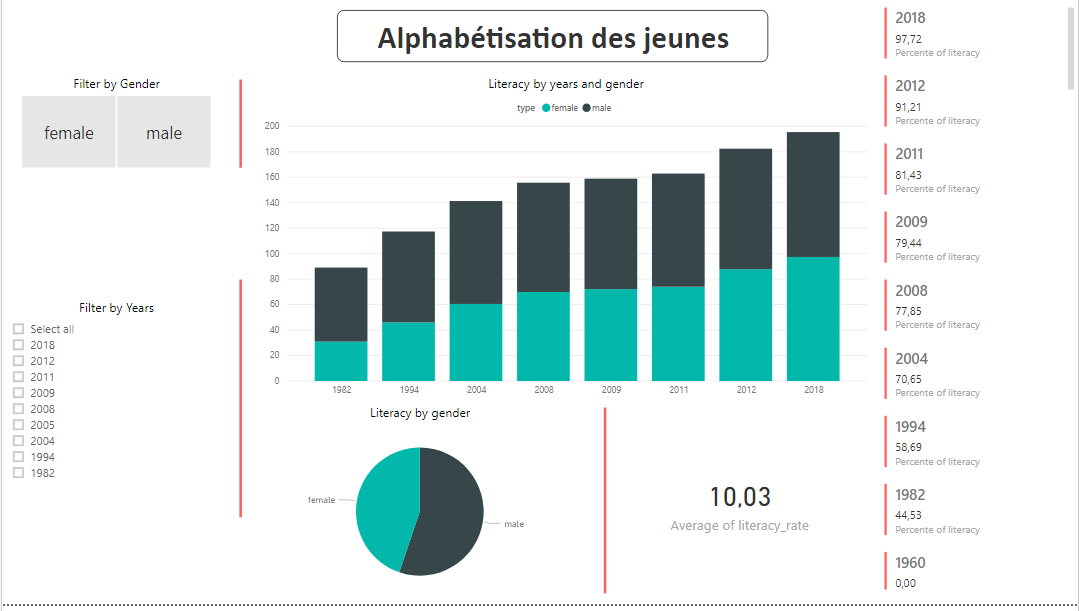

The dashboard page shown, as its layout file describes it:
{"tool":"powerbi","page":{"name":"Alphabétisation des jeunes","canvas":[1280,720],"ordinal":4},"visuals":[{"type":"textbox","box":[398.5,13.1,512.7,61.9],"z":0},{"type":"slicer","title":"Filter by Gender","fields":{"Values":["mydb gender.type"]},"box":[0,90.4,272.4,115.4],"z":1000},{"type":"basicShape","box":[272.4,85.7,22.6,124.9],"z":2000},{"type":"slicer","title":"Filter by Years","fields":{"Values":["mydb temps.year"]},"box":[0,356.9,272.4,235.5],"z":3000},{"type":"basicShape","box":[272.4,323.6,22.6,303.3],"z":4000},{"type":"columnChart","title":"Literacy by years and gender","fields":{"Category":["mydb temps.year"],"Series":["mydb gender.type"],"Y":["Sum(mydb youth.literacy_rate)"]},"box":[306.9,90.4,728,392.6],"z":5000},{"type":"multiRowCard","fields":{"Values":["Avg(mydb youth.literacy_rate)","mydb temps.year"]},"box":[1044.5,4.8,235.5,703],"z":6000},{"type":"pieChart","title":"Literacy by gender","fields":{"Y":["Avg(mydb youth.literacy_rate)"],"Category":["mydb gender.type"]},"box":[339,481.8,316.4,235.5],"z":7000},{"type":"basicShape","box":[711.4,475.8,11.9,241.5],"z":8000},{"type":"card","fields":{"Values":["Avg(mydb youth.literacy_rate)"]},"box":[754.2,503.2,247.4,192.7],"z":9000}]}

Visuals, with their boxes in screenshot pixels (x1, y1, x2, y2), scaled from the page's 1280x720 canvas onto the 1079x611 screenshot:
textbox: box(336, 11, 768, 64)
"Filter by Gender" slicer: box(0, 77, 230, 175)
basicShape: box(230, 73, 249, 179)
"Filter by Years" slicer: box(0, 303, 230, 503)
basicShape: box(230, 275, 249, 532)
"Literacy by years and gender" columnChart: box(259, 77, 872, 410)
multiRowCard - Avg(mydb youth.literacy_rate) x mydb temps.year: box(880, 4, 1078, 601)
"Literacy by gender" pieChart: box(286, 409, 552, 609)
basicShape: box(600, 404, 610, 609)
card - Avg(mydb youth.literacy_rate): box(636, 427, 844, 591)
